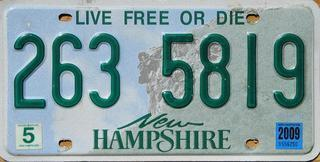placa de veiculo: (6, 6, 310, 153)
